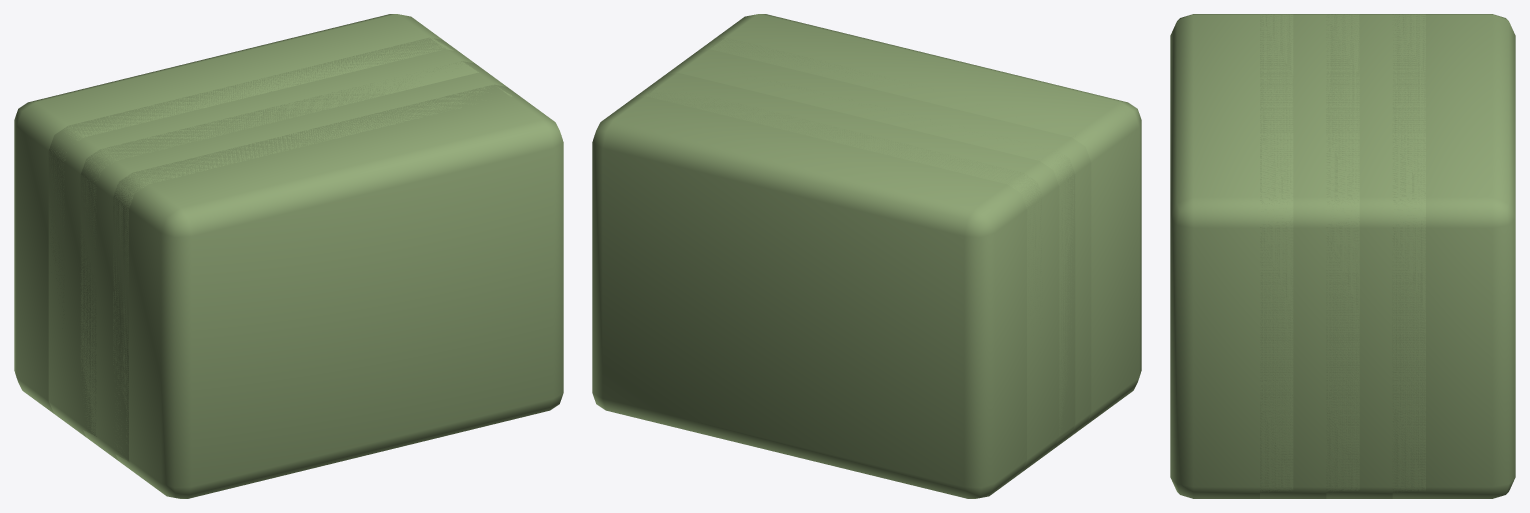
The model's file is equipment_basket_stack.glb.
3 views of the same model, side by side, from view 1: azimuth 30°, elevation 25°; view 2: azimuth 150°, elevation 25°; view 3: azimuth 270°, elevation 25° (orthographic). The views are drawn at different scales.
Visible parts, largest first — view 1: Basket, Basket.002, Basket.003, Basket.001; view 2: Basket.003, Basket, Basket.002, Basket.001; view 3: Basket, Basket.003, Basket.002, Basket.001.
Boxes of the visible parts, x1,y1,x2,y2 form: Basket: (113,84,563,498); Basket.002: (48,37,478,436); Basket.003: (14,14,453,413); Basket.001: (80,61,512,462); Basket.003: (592,85,1042,498); Basket: (697,14,1141,425); Basket.002: (633,72,1075,472); Basket.001: (665,37,1091,448); Basket: (1170,14,1293,498); Basket.003: (1392,14,1515,498); Basket.002: (1326,14,1425,498); Basket.001: (1260,14,1359,498).
Size of the model in its own units: 0.72 by 0.5 by 0.52.
